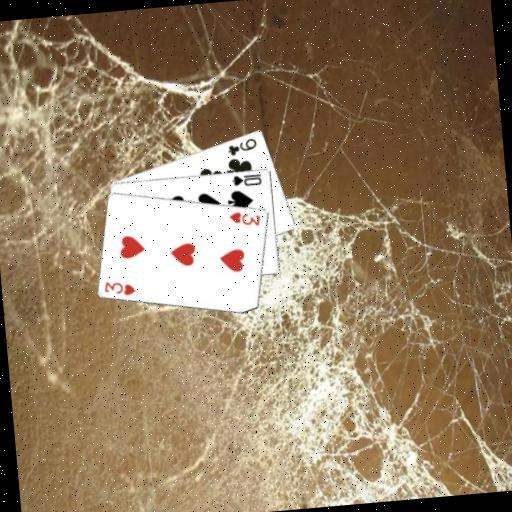10S: (229, 170, 264, 188)
3H: (226, 207, 263, 230), (101, 276, 138, 299)
9C: (224, 135, 260, 158)
